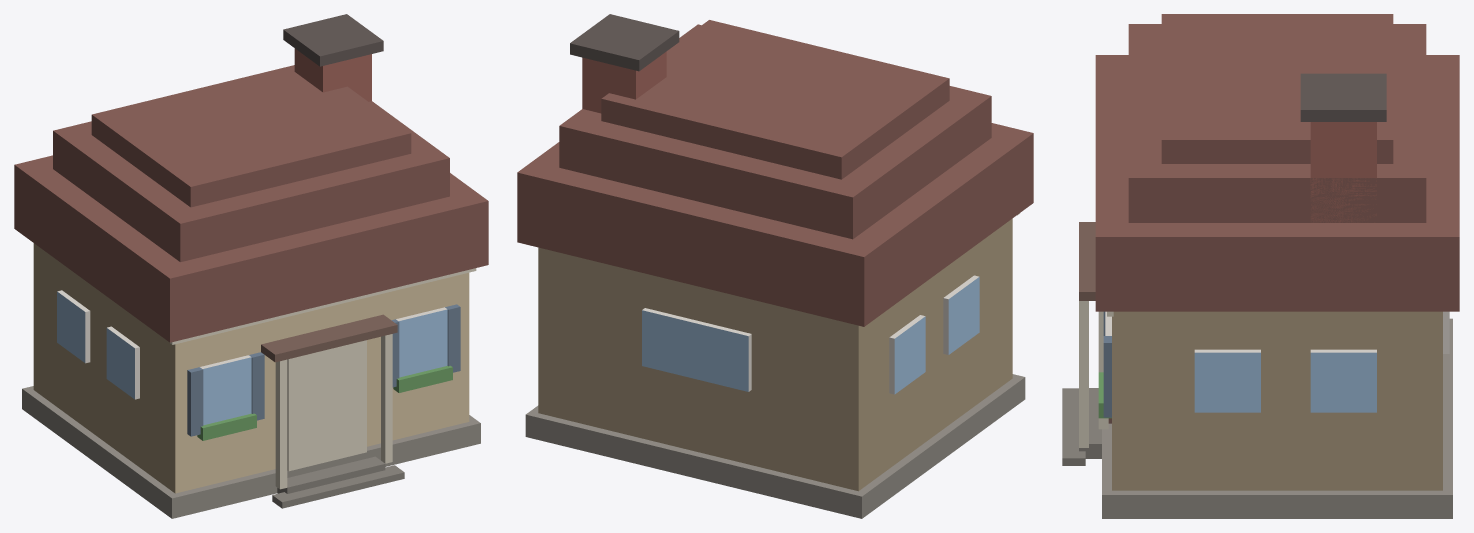
The model's file is Cottage.fbx.
3 views of the same model, side by side, from view 1: azimuth 30°, elevation 25°; view 2: azimuth 150°, elevation 25°; view 3: azimuth 270°, elevation 25° (orthographic). The views are drawn at different scales.
Visible parts, largest first — view 1: Cottage; view 2: Cottage; view 3: Cottage.
Boxes of the visible parts, box(x1,y1,x2,y2) form: Cottage: box(14, 14, 488, 518); Cottage: box(517, 14, 1033, 518); Cottage: box(1062, 14, 1459, 518).
Size of the model in its own units: 1300 by 1340 by 1200.
